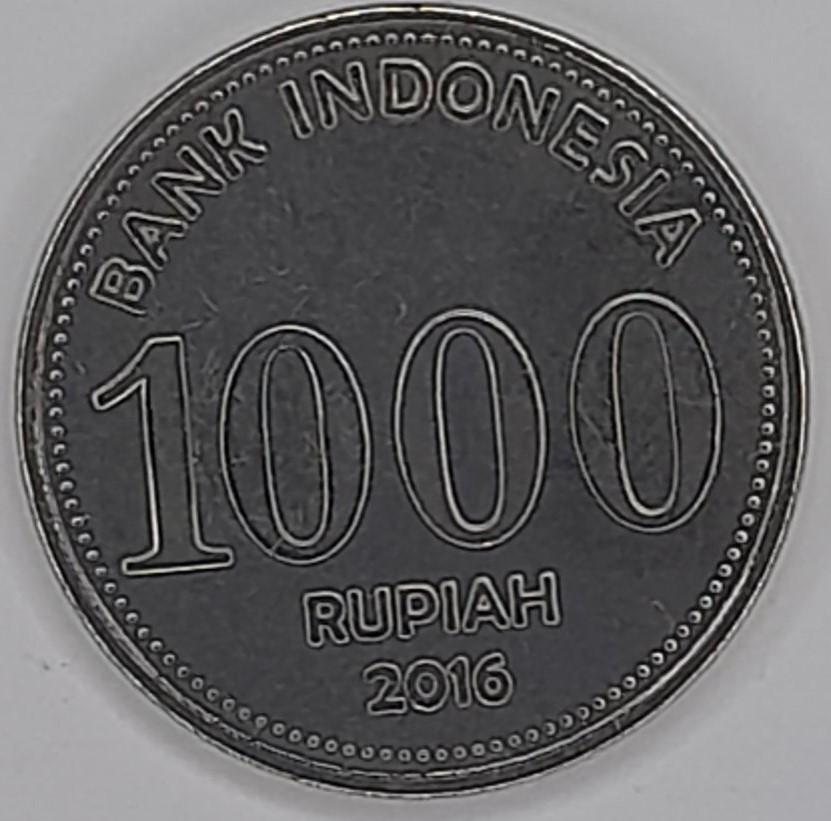coin_1000_e2016: (14, 16, 820, 821)
